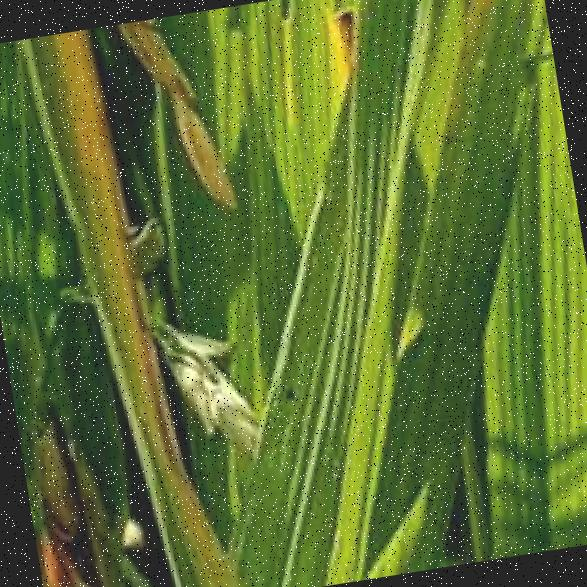Bacteria_Leaf_Blight: (42, 27, 236, 585)
